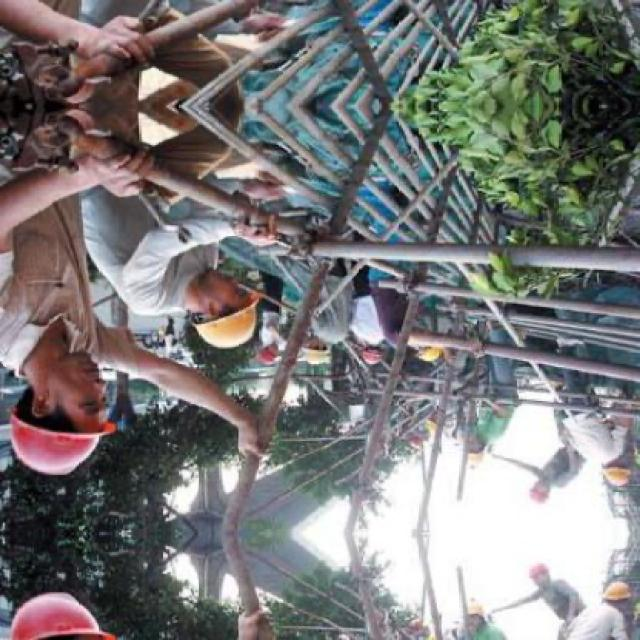con casco: (159, 248, 343, 388), (0, 384, 143, 491), (331, 327, 384, 391), (282, 346, 366, 379)
